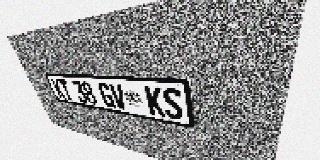3: (72, 80, 89, 103)
8: (80, 81, 98, 105)
G: (97, 82, 116, 108)
K: (144, 86, 166, 117), (51, 79, 67, 99)
S: (162, 87, 184, 120)
T: (58, 79, 74, 101)
V: (109, 83, 128, 110)
